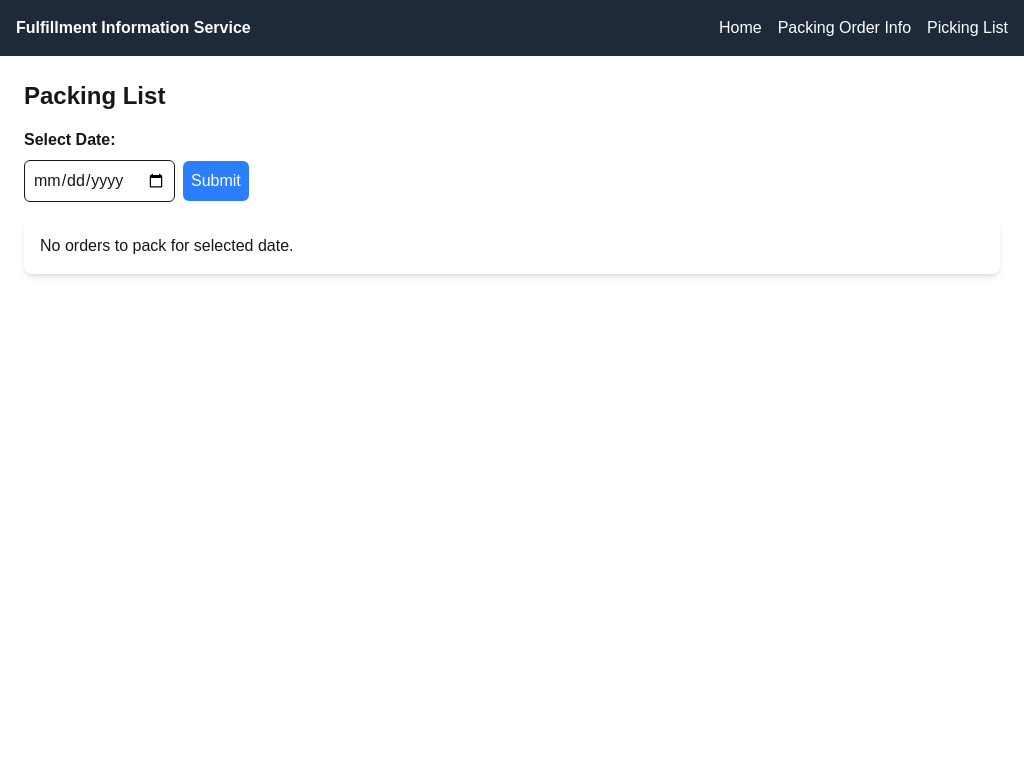
Test: PackingList Component › displays fetched packing list correctly
The image size is (1024, 768).
Type "2025-04-01" into the date field labelled "Select Date:" at point(100, 181), box [24, 160, 175, 202]
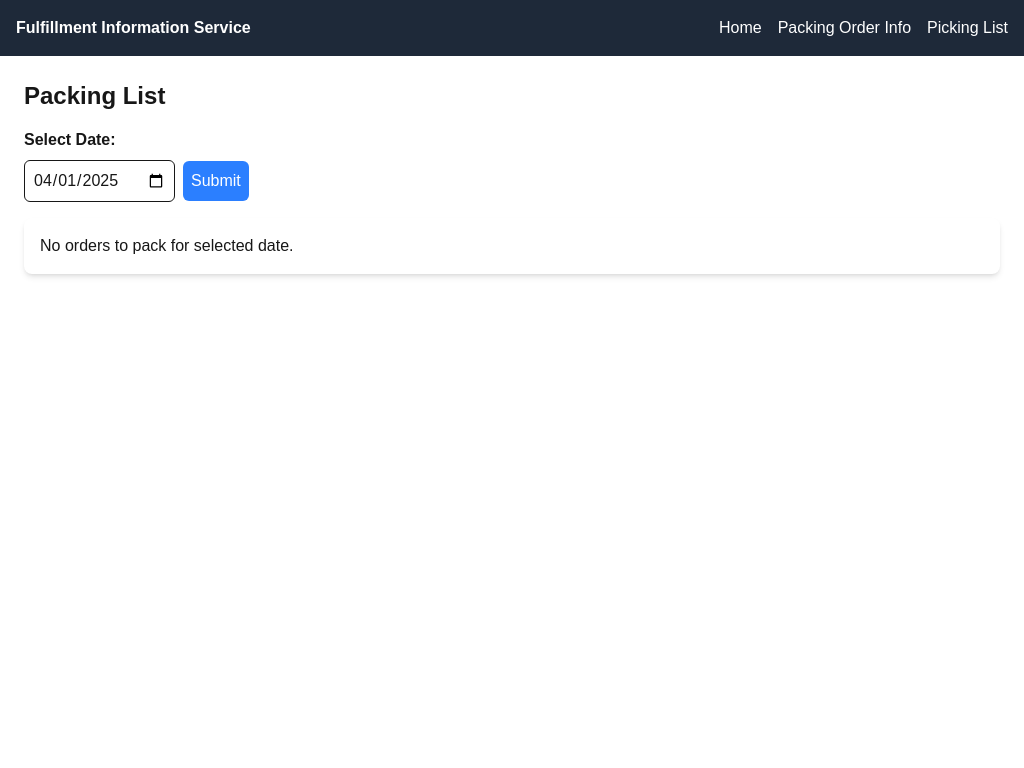
Click the button "Submit" at point(216, 181), box [183, 161, 249, 201]
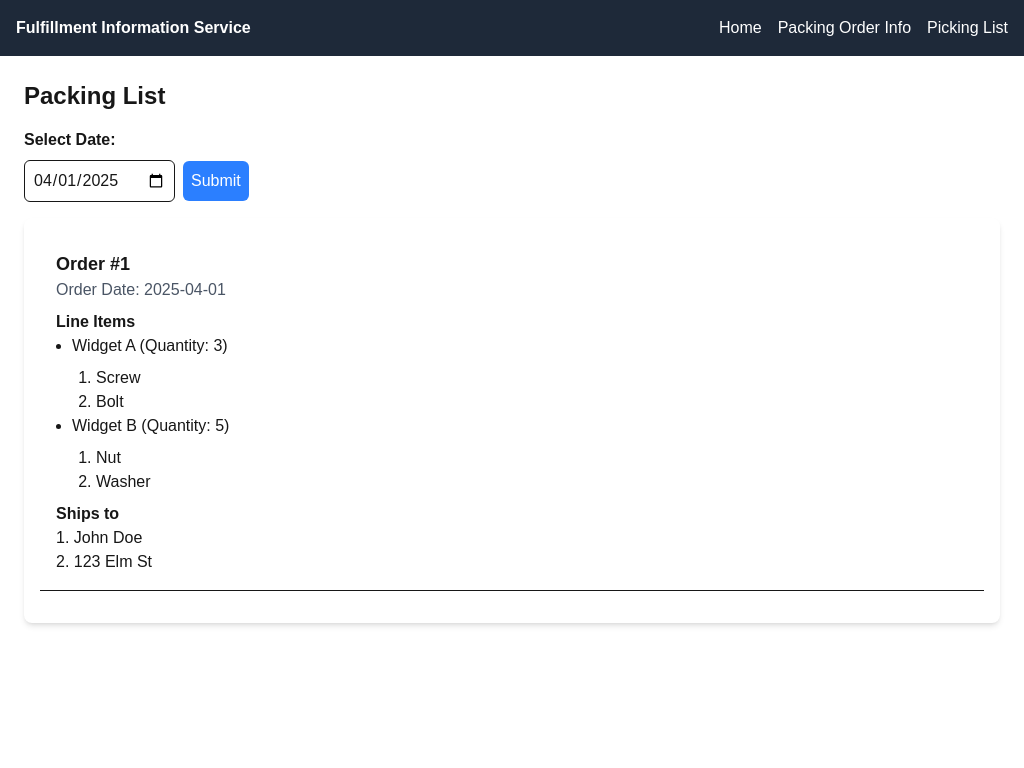
Result: the heading "Order #1" is shown at [56, 254, 130, 274]
Result: the text "Order Date: 2025-04-01" is shown at [56, 281, 226, 298]
Result: the text "Widget A (Quantity: 3)" is shown at [72, 337, 228, 354]
